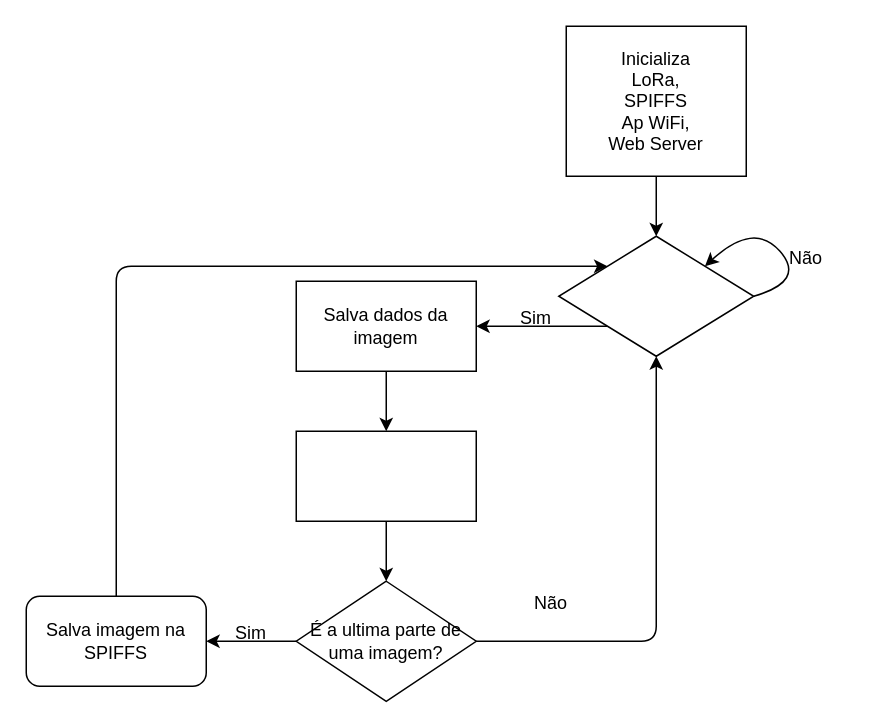
Image size: 878x728. Some labels were removed from this diagram. The shapes that lost their labels are listed below. From the top down, each one's centre as x and y in pixels, then its label:
the point at 655,295: Chegou um Pacote?
the point at 385,475: Enviar ACK
